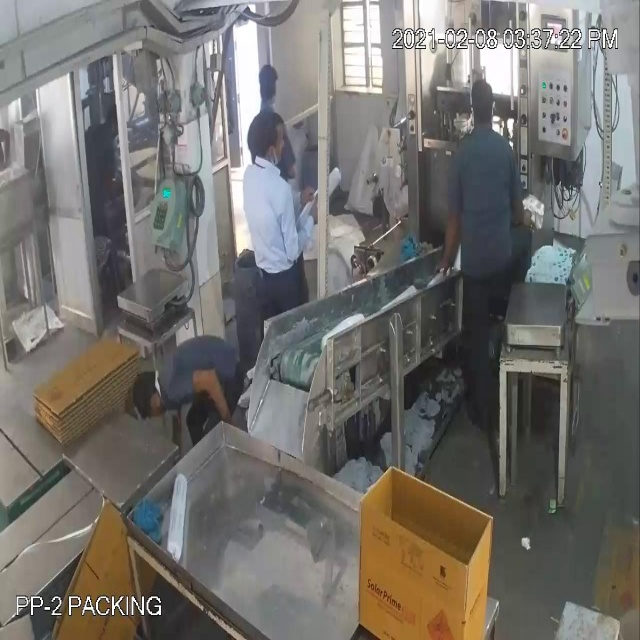Sin_guantes: (188, 366, 235, 425), (433, 184, 462, 271)
